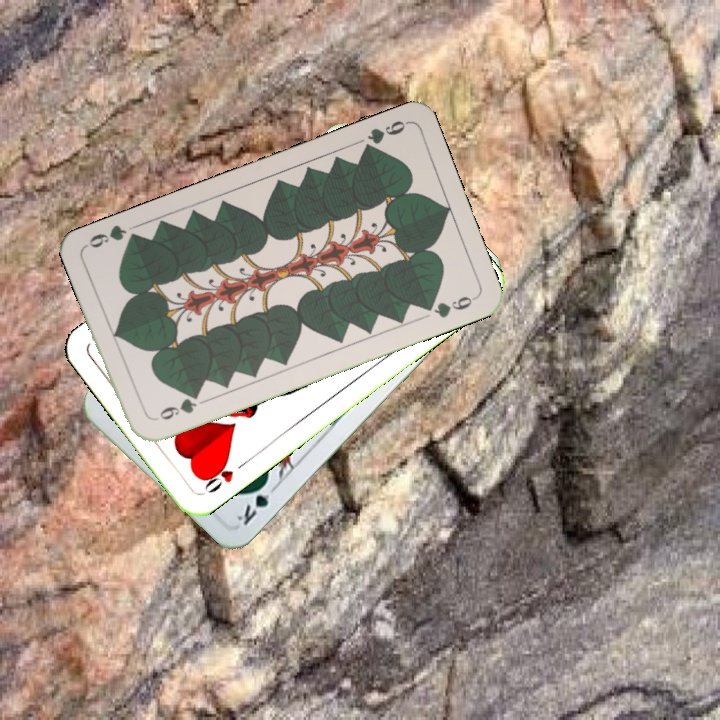G9: (358, 116, 410, 156), (155, 389, 203, 423)
GK: (232, 476, 280, 528)
HO: (198, 457, 249, 496)
